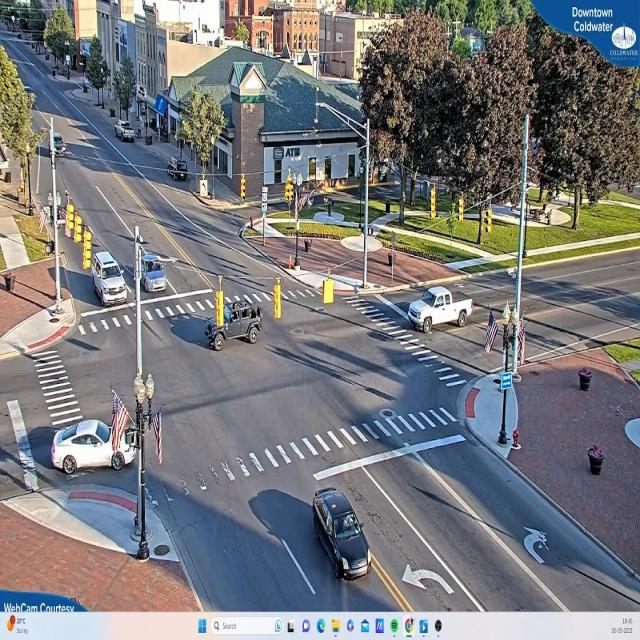car: (311, 491, 372, 585), (51, 418, 136, 477), (202, 297, 262, 352), (409, 284, 471, 332), (92, 253, 128, 306), (141, 252, 169, 296), (164, 158, 190, 180), (51, 132, 66, 157)
